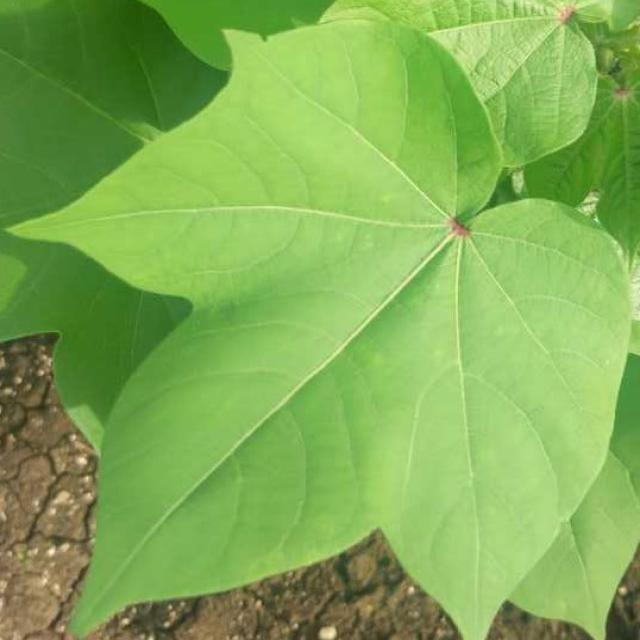Healthy Leaf: (11, 5, 610, 601)
